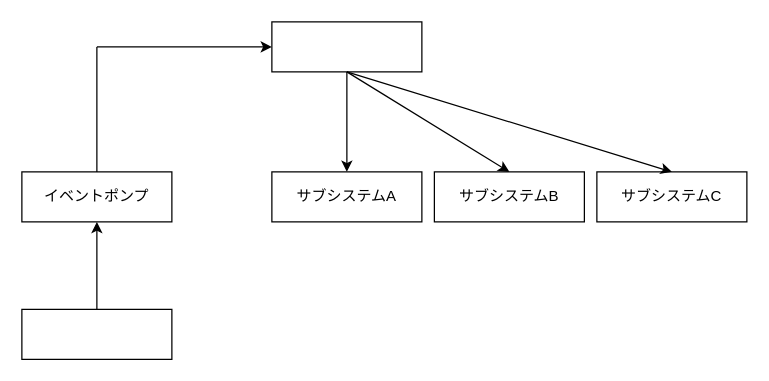
This 769x381 diagram has some shape labels left out. The centre of each missing label's shape, as x and y in pixels:
OSレイヤー: point 96,333
アプリケーション: point 346,46
